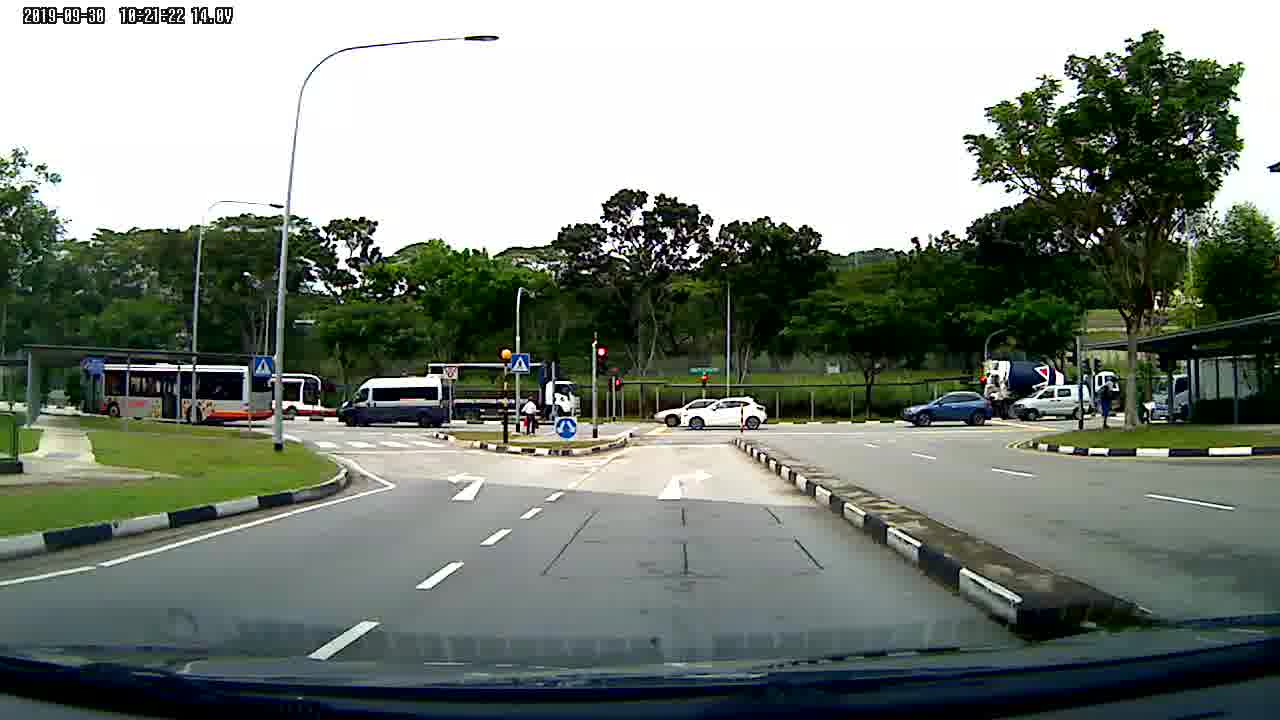bus: (77, 364, 273, 426), (283, 369, 342, 416)
car: (899, 388, 999, 427), (689, 394, 770, 436)
